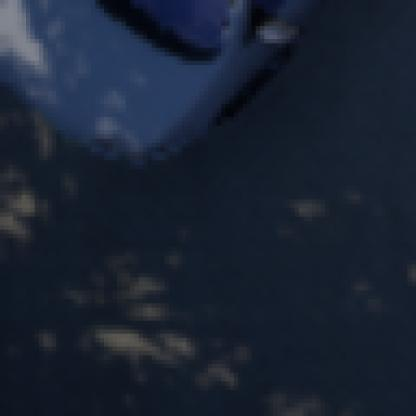Car: (0, 0, 308, 152)
